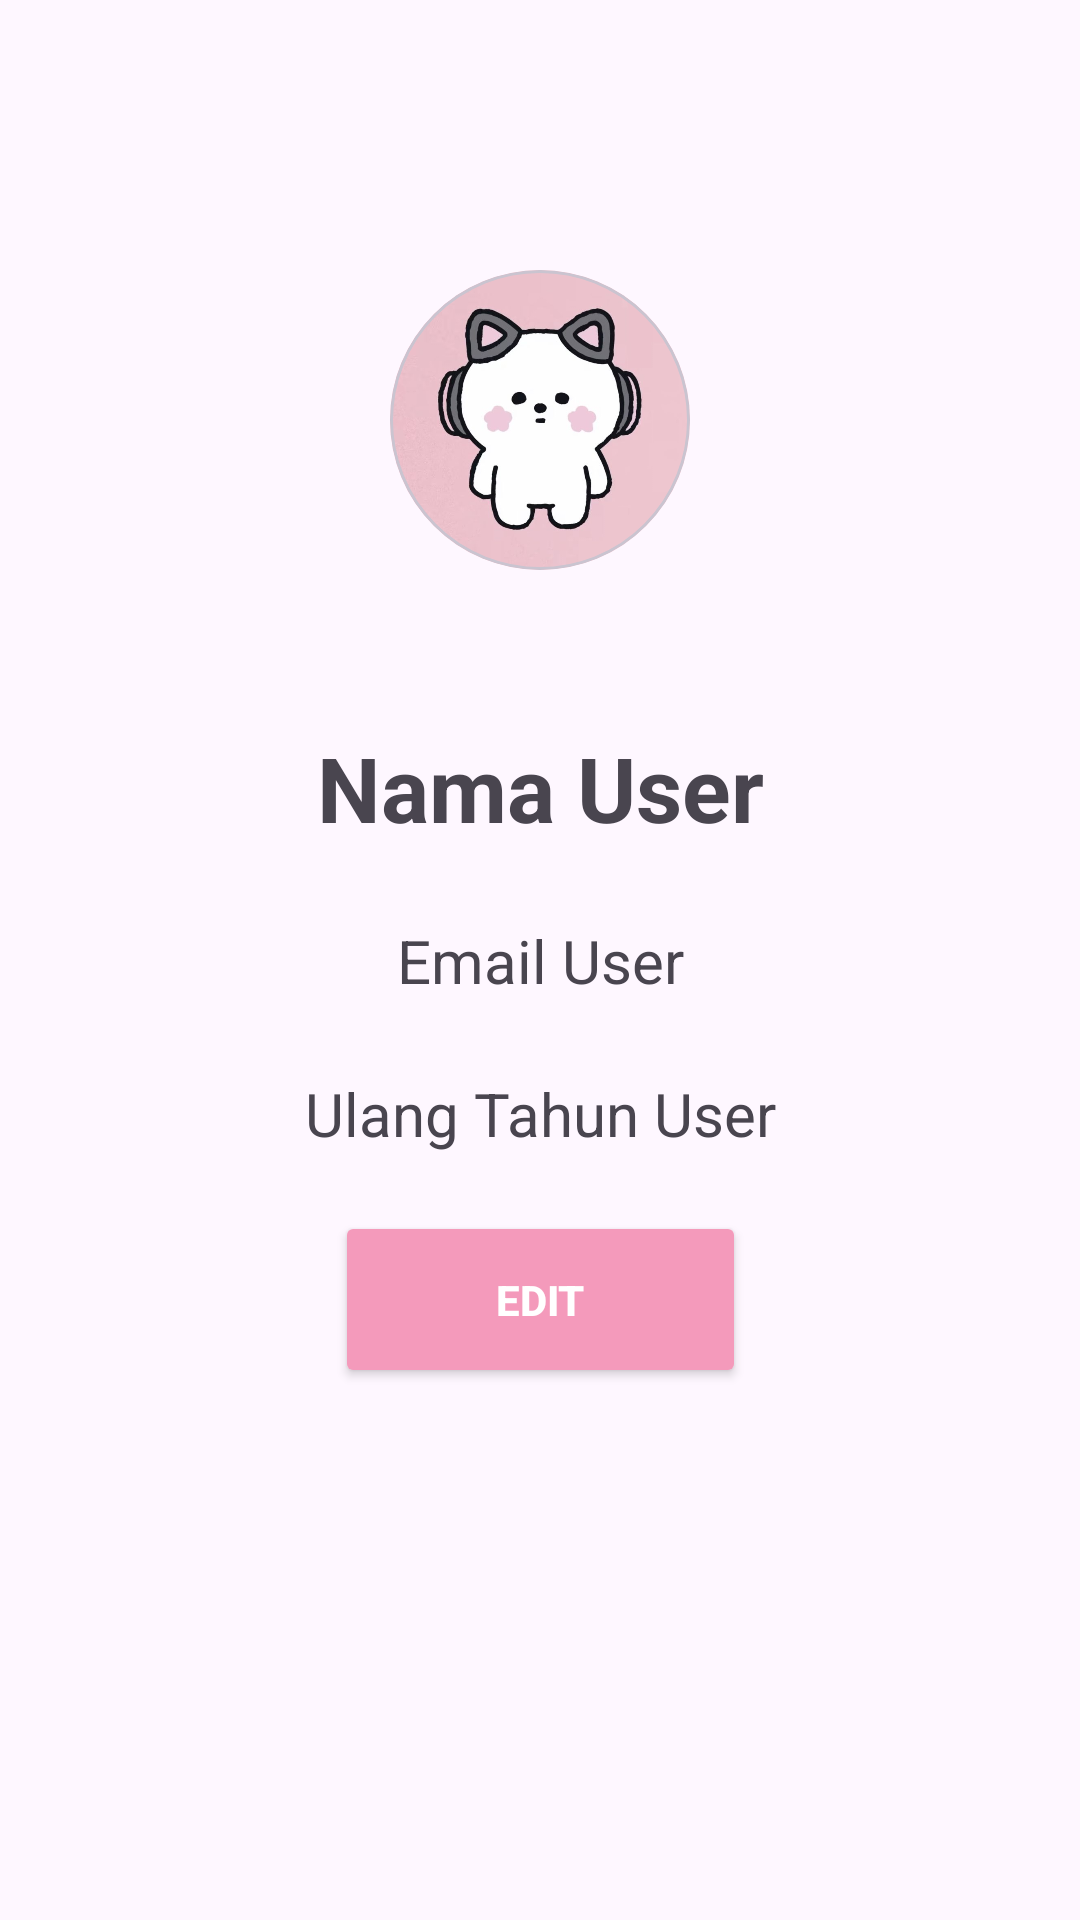

Screen size 1080px x 1920px. Icon name, then its box in pixels as {"left": x1, "top": y1, "right": x2, "bottom": y2}:
profil anon: {"left": 390, "top": 270, "right": 690, "bottom": 570}
